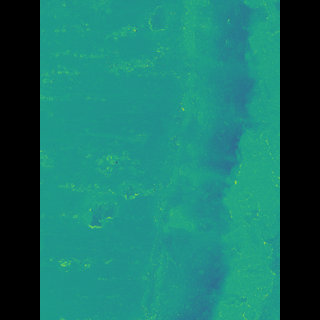Loch: (146, 0, 249, 320)
